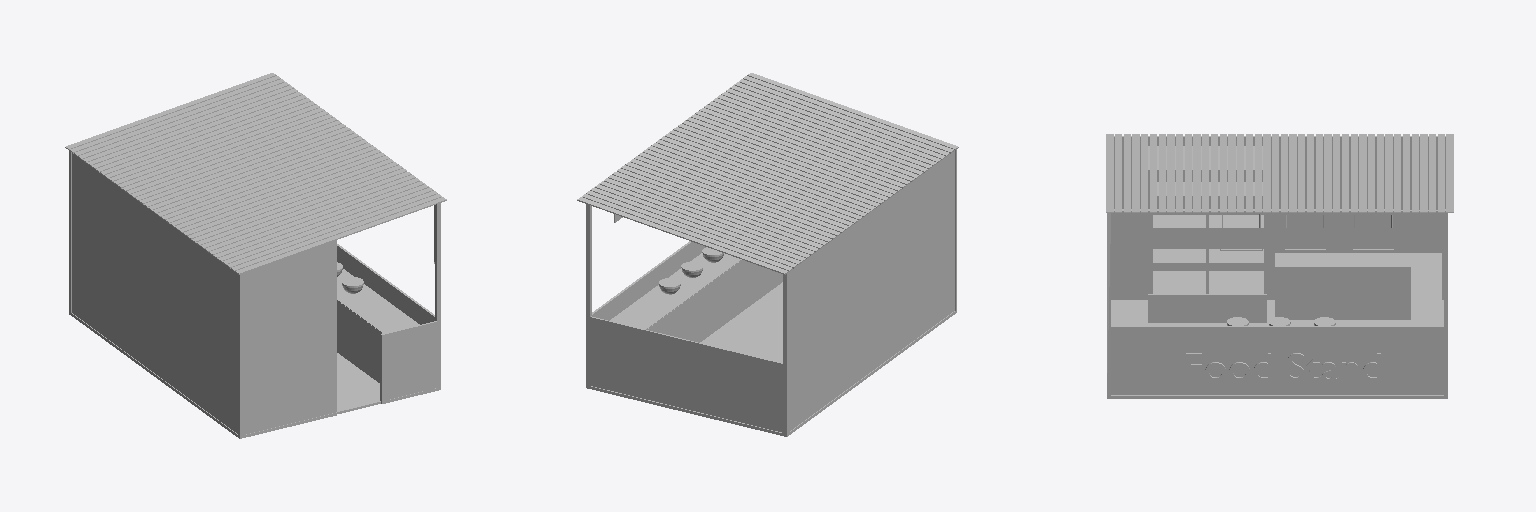
Rendered from FoodStand.obj.
3 views of the same model, side by side, from view 1: azimuth 30°, elevation 25°; view 2: azimuth 150°, elevation 25°; view 3: azimuth 270°, elevation 25° (orthographic).
Parts seen in each view (by area): view 1: Cube.003, Cube.002, Cube.005, Cube.001, Cube; view 2: Cube.003, Cube.002, Cube.005, Cube.001, Cube; view 3: Cube.003, Cube.002, Cube.005, freezer, Cube.001, text, part_of_freezer, part_of_freezer_2, Cube, Cube.006, Cube.007, Cube.009.
Boxes of the visible parts, box(x1,y1,x2,y2) form: Cube.003: box(72, 153, 436, 434); Cube.002: box(65, 73, 446, 274); Cube.005: box(337, 269, 419, 382); Cube.001: box(69, 150, 440, 438); Cube: box(337, 353, 380, 413); Cube.003: box(590, 150, 954, 432); Cube.002: box(577, 73, 958, 274); Cube.005: box(610, 253, 782, 362); Cube.001: box(586, 149, 956, 436); Cube: box(700, 282, 782, 357); Cube.003: box(1111, 136, 1443, 394); Cube.002: box(1106, 134, 1453, 212); Cube.005: box(1113, 253, 1441, 325); freezer: box(1148, 146, 1266, 322); Cube.001: box(1107, 136, 1447, 398); text: box(1186, 353, 1380, 380); part_of_freezer: box(1153, 249, 1263, 263); part_of_freezer_2: box(1153, 215, 1263, 229); Cube: box(1111, 300, 1443, 325); Cube.006: box(1284, 228, 1326, 250); Cube.007: box(1352, 228, 1394, 250); Cube.009: box(1220, 228, 1262, 250).
Bounding box in the file's own units: 21.88 × 19.06 × 31.68.